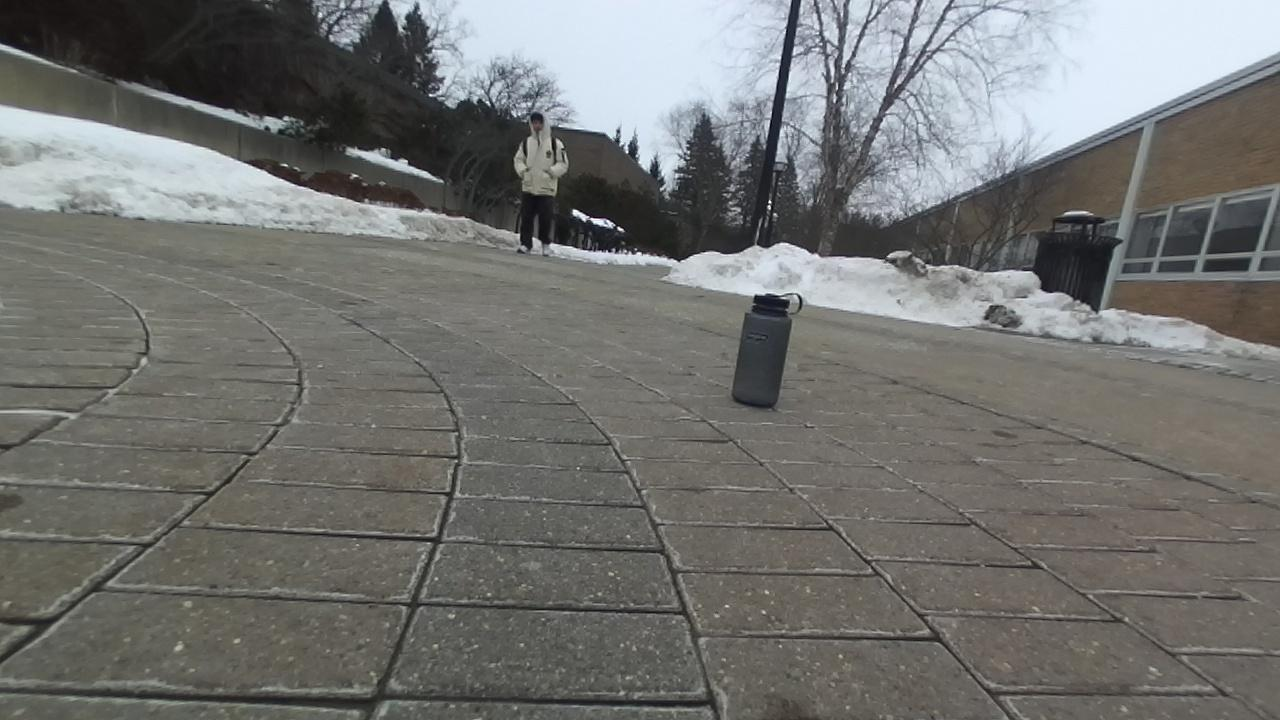bottle: (732, 293, 803, 407)
